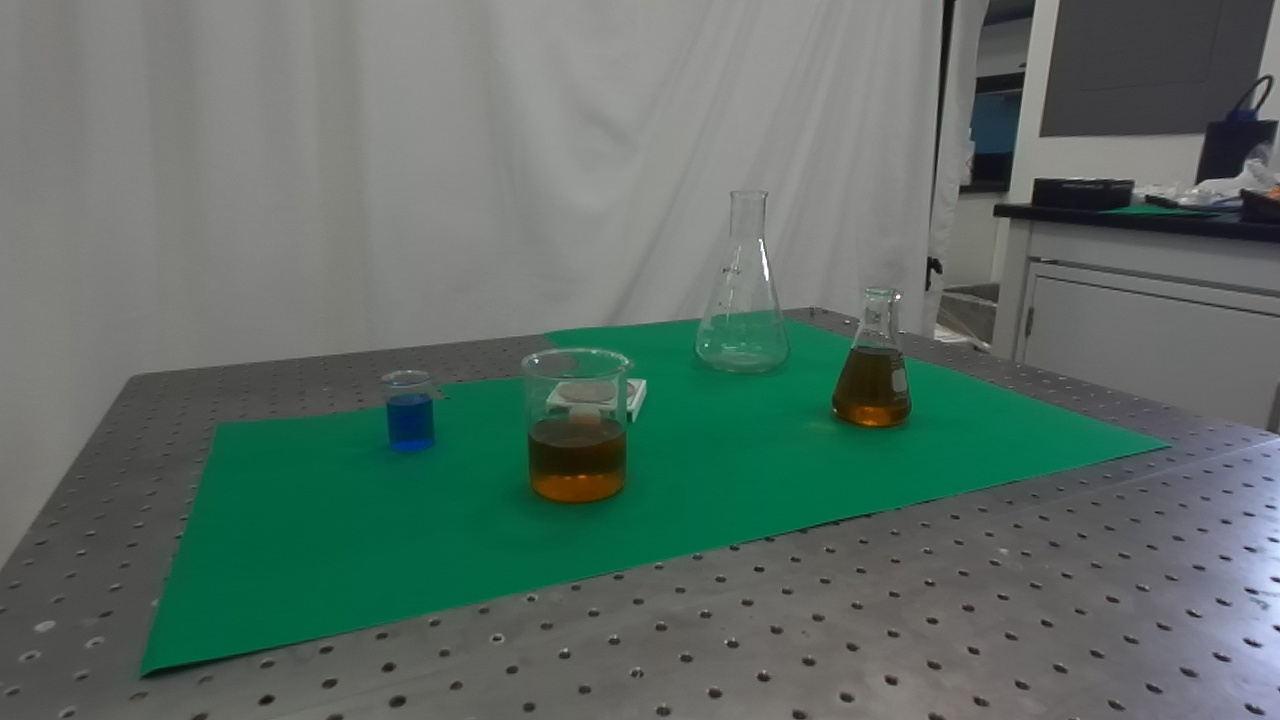glass: (691, 184, 795, 381), (515, 346, 633, 510), (828, 281, 914, 430), (377, 365, 440, 453)
plate: (540, 373, 651, 427)
